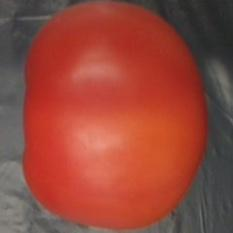unripe: (17, 1, 211, 233)
